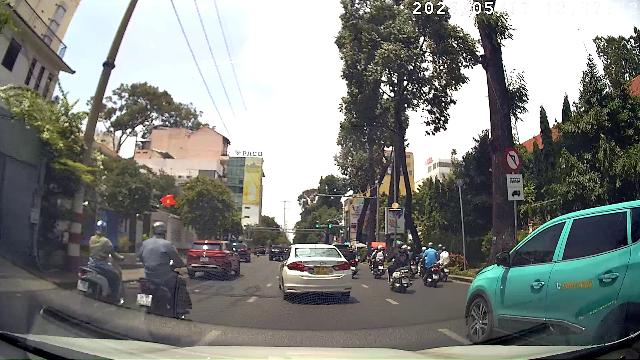123a-cam-re-trai: (503, 148, 521, 172)
